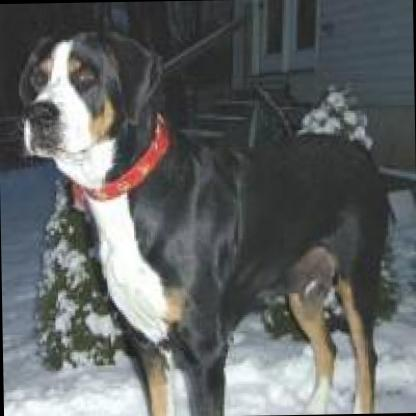Greater_Swiss_Mountain_dog: (9, 18, 396, 414)
